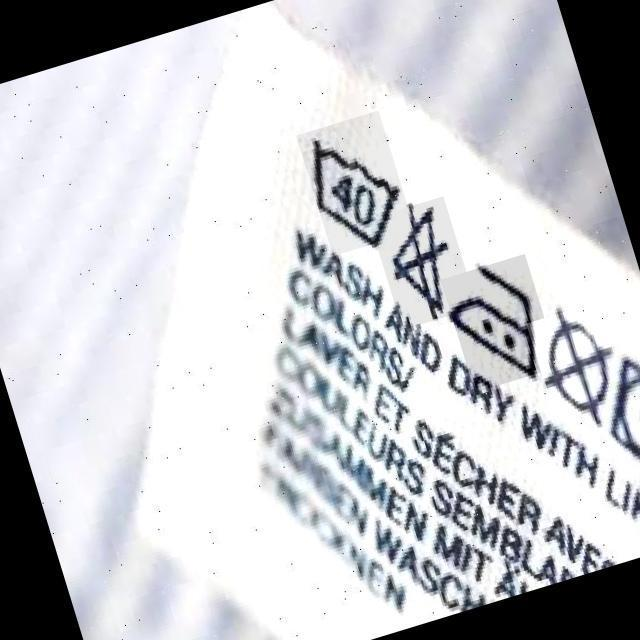40C: (313, 148, 396, 241)
DN_bleach: (391, 203, 452, 313)
DN_dry_clean: (545, 319, 614, 414)
iron_medium: (458, 262, 538, 377)
